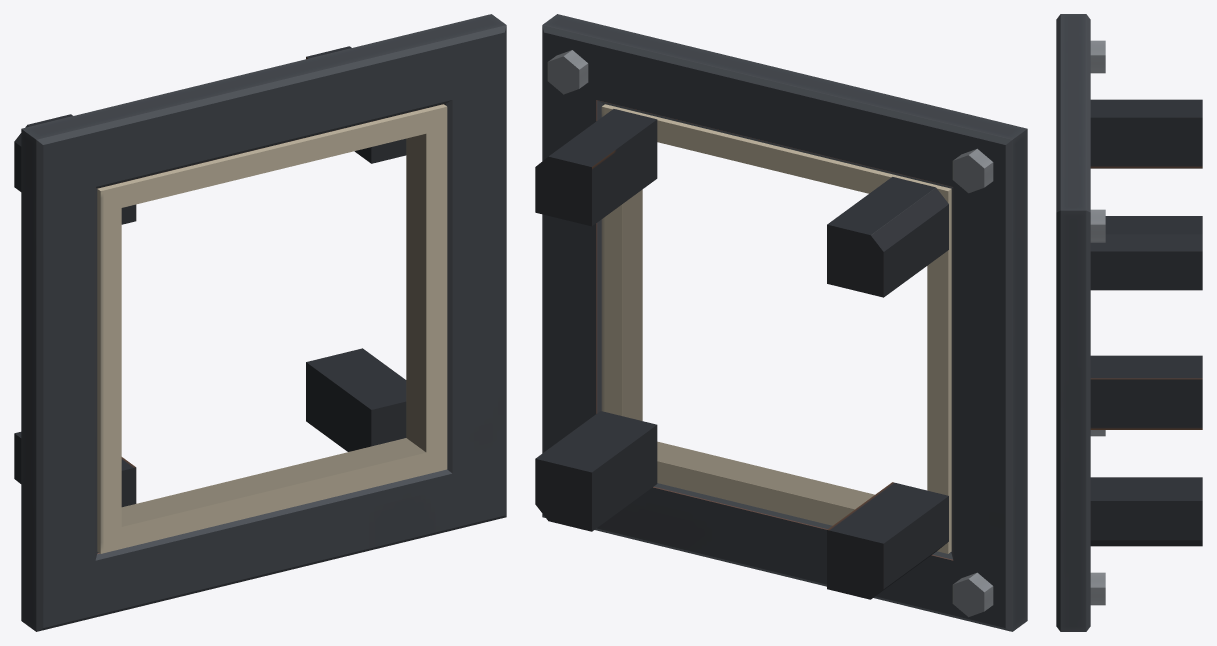
File: arm_pipe_north.obj
3 renders of one model, left to right at view 1: azimuth 30°, elevation 25°; view 2: azimuth 150°, elevation 25°; view 3: azimuth 270°, elevation 25°, orthographic. The views are drawn at different scales.
Parts seen in each view (by area): view 1: arm_pipe_flange, arm_pipe_flange_lining, arm_pipe_rails; view 2: arm_pipe_flange, arm_pipe_rails, arm_pipe_flange_lining, arm_pipe_flange_nuts; view 3: arm_pipe_rails, arm_pipe_flange, arm_pipe_flange_nuts.
Part boxes in pixels (x1=…): arm_pipe_flange: x1=21, y1=14, x2=506, y2=631; arm_pipe_flange_lining: x1=97, y1=104, x2=447, y2=553; arm_pipe_rails: x1=14, y1=46, x2=406, y2=507; arm_pipe_flange: x1=542, y1=14, x2=1027, y2=631; arm_pipe_rails: x1=535, y1=109, x2=948, y2=599; arm_pipe_flange_lining: x1=601, y1=104, x2=951, y2=553; arm_pipe_flange_nuts: x1=547, y1=50, x2=993, y2=617; arm_pipe_rails: x1=1090, y1=99, x2=1202, y2=546; arm_pipe_flange: x1=1056, y1=14, x2=1090, y2=631; arm_pipe_flange_nuts: x1=1090, y1=40, x2=1105, y2=605.
Size of the model in its own units: 0.675 by 0.675 by 0.2125.
